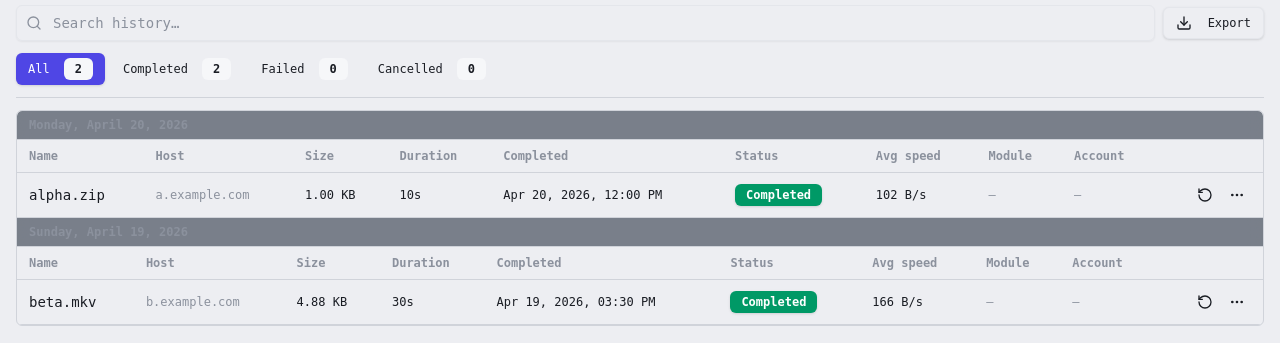
Scenario: HistoryView integration › should filter to a single status tab and show 0 entries on cancelled
Check: the text "alpha.zip" is shown, box [29,187,105,203]
Click the tab "Cancelled 0" at coordinates (432, 69), box [366,53,498,85]
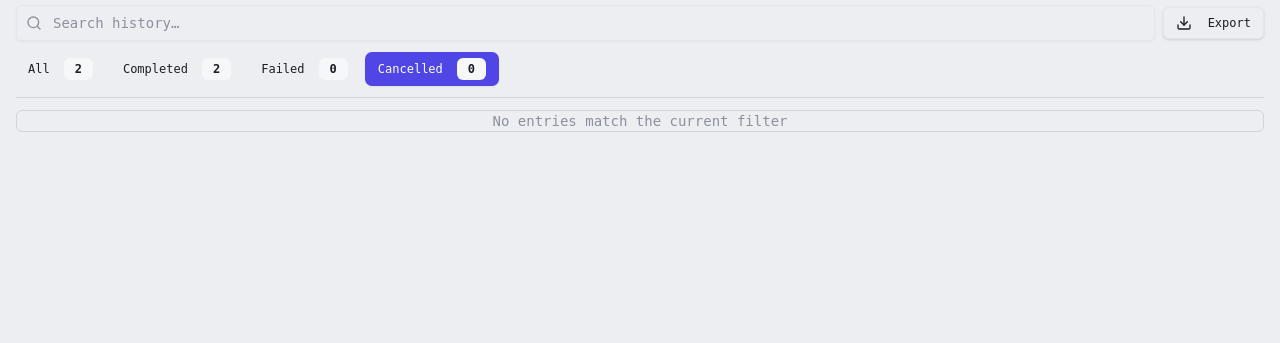
Check: the text "alpha.zip" is gone
Check: the text "No entries match the current filter" is shown, box [492,113,788,129]
